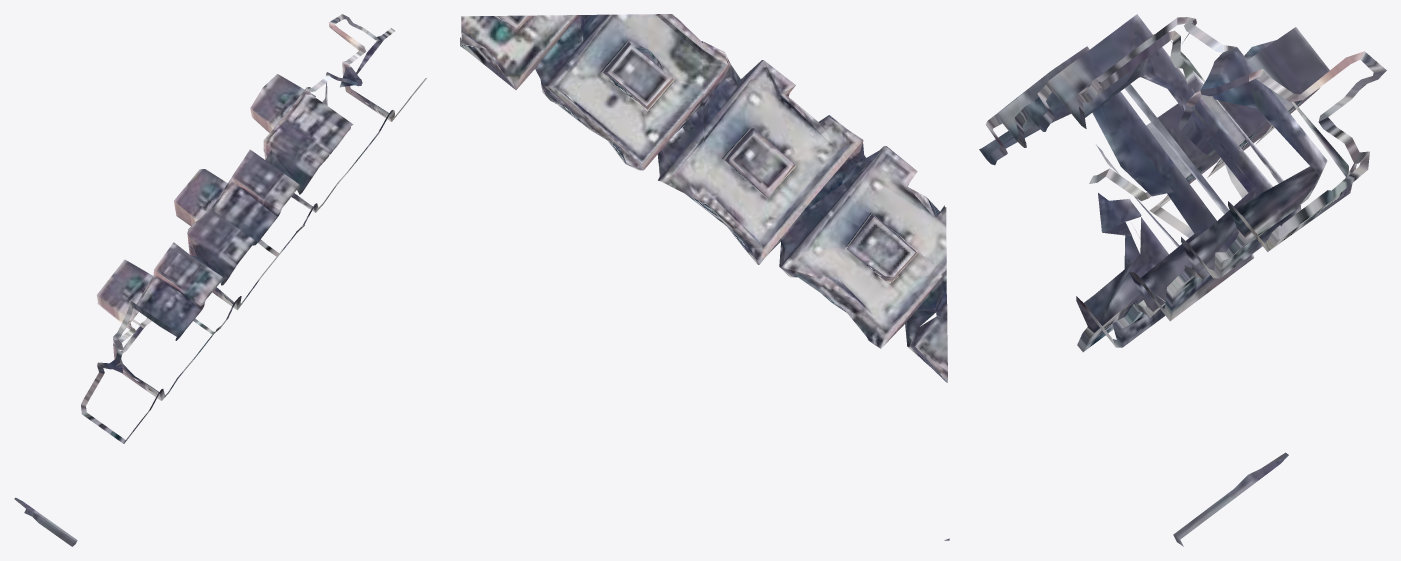
3 views of the same model, side by side, from view 1: azimuth 30°, elevation 25°; view 2: azimuth 150°, elevation 25°; view 3: azimuth 270°, elevation 25° (orthographic). The views are drawn at different scales.
Bounding box in the file's own units: 81.35 × 77.13 × 37.02.
Materials: 1 (1 with a texture image).
